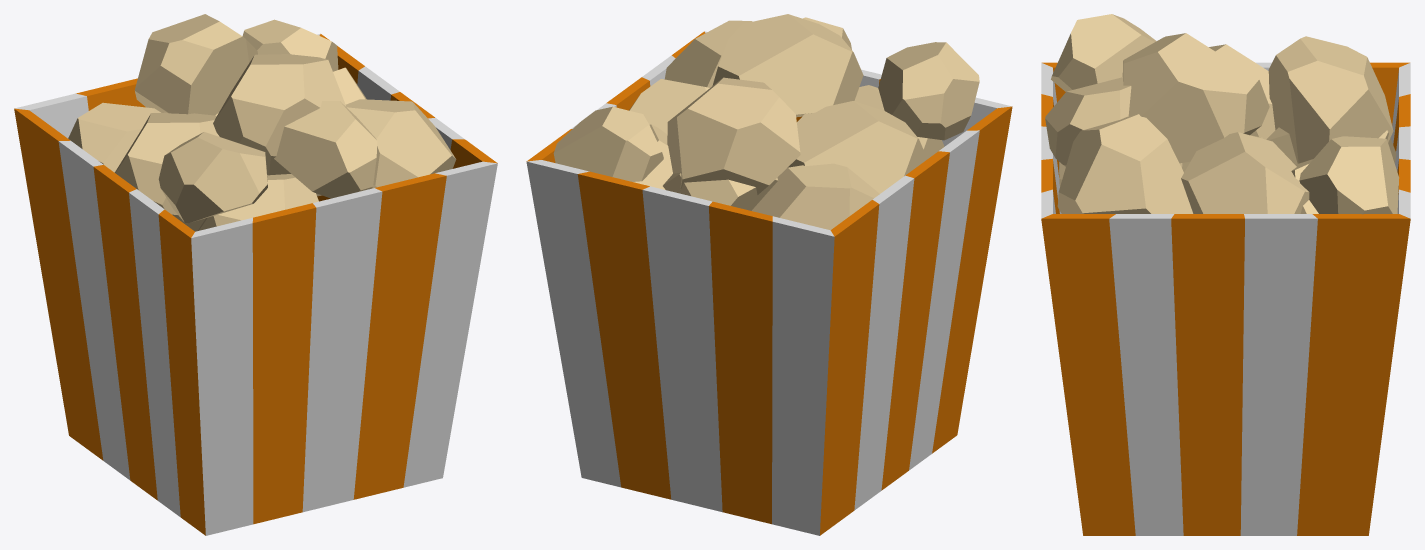
Rendered from misir.fbx.
3 renders of one model, left to right at view 1: azimuth 30°, elevation 25°; view 2: azimuth 150°, elevation 25°; view 3: azimuth 270°, elevation 25°, orthographic. The views are drawn at different scales.
Parts seen in each view (by area): view 1: Rock_Type2_04_mesh13; view 2: Rock_Type2_04_mesh13; view 3: Rock_Type2_04_mesh13.
Part boxes in pixels (left/top/right/bottom): Rock_Type2_04_mesh13: left=14, top=14, right=497, bottom=535; Rock_Type2_04_mesh13: left=526, top=14, right=1012, bottom=535; Rock_Type2_04_mesh13: left=1041, top=14, right=1410, bottom=535.
Size of the model in its own units: 5.35 by 6.89 by 5.35.
